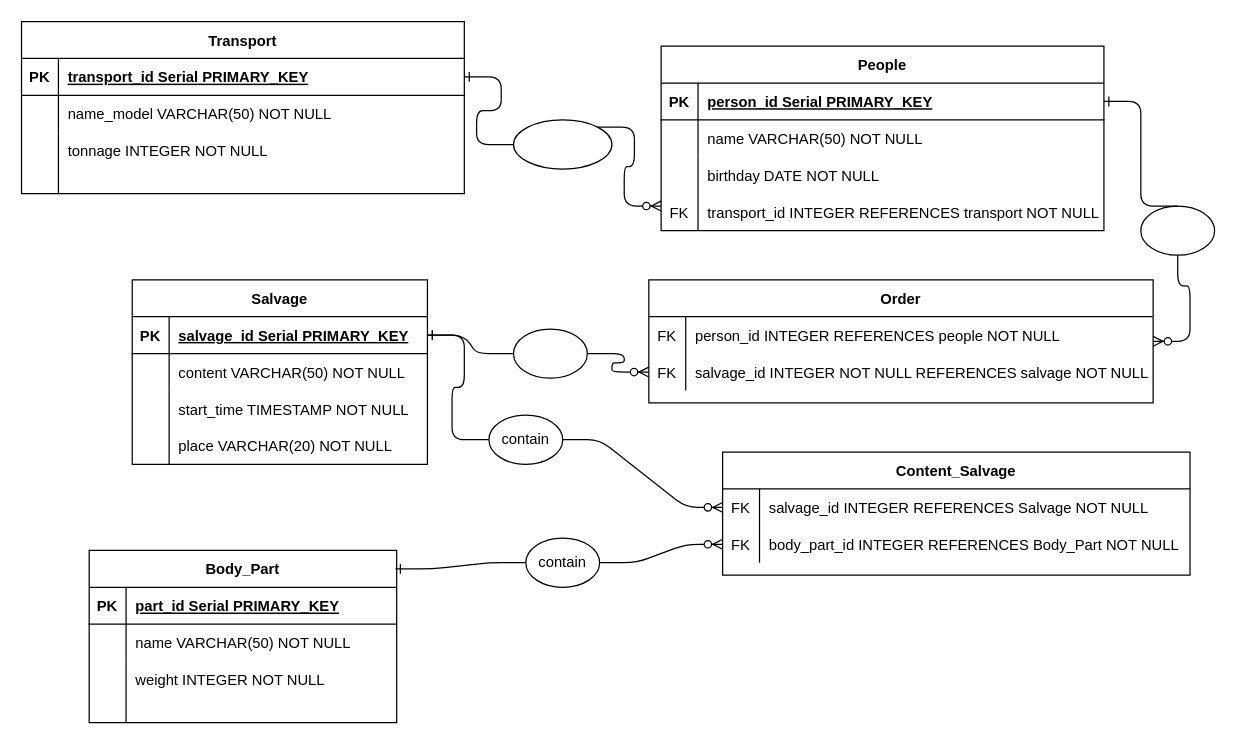
Some shapes in this 1246 by 745 pixel diagram are drawn without their labels. The shapes that lost their labels are listed below. From the top down, each one's centre as x and y in pixels, then its label:
(x=562, y=144): own
(x=1177, y=230): fulfill
(x=549, y=353): follow
